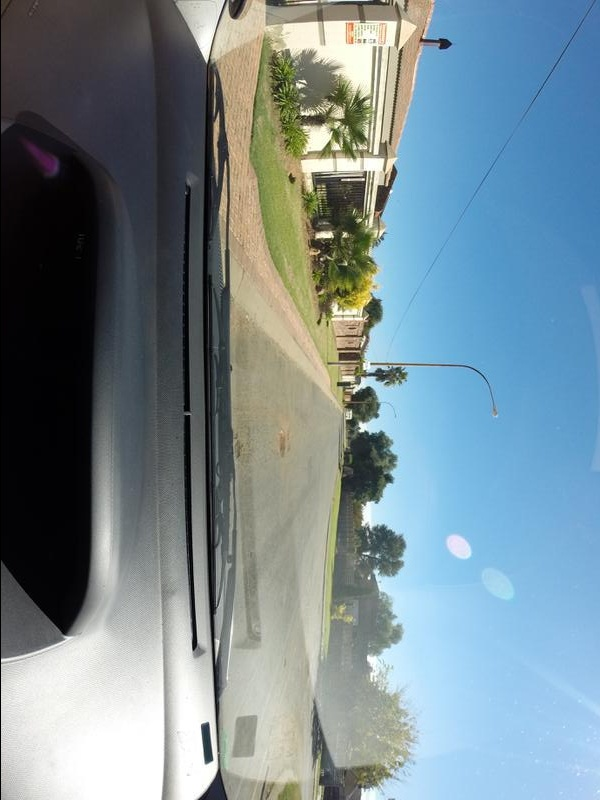pothole: (278, 430, 292, 461), (237, 439, 245, 462)
